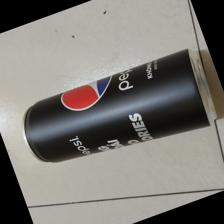Pepsi: (23, 47, 218, 164)
